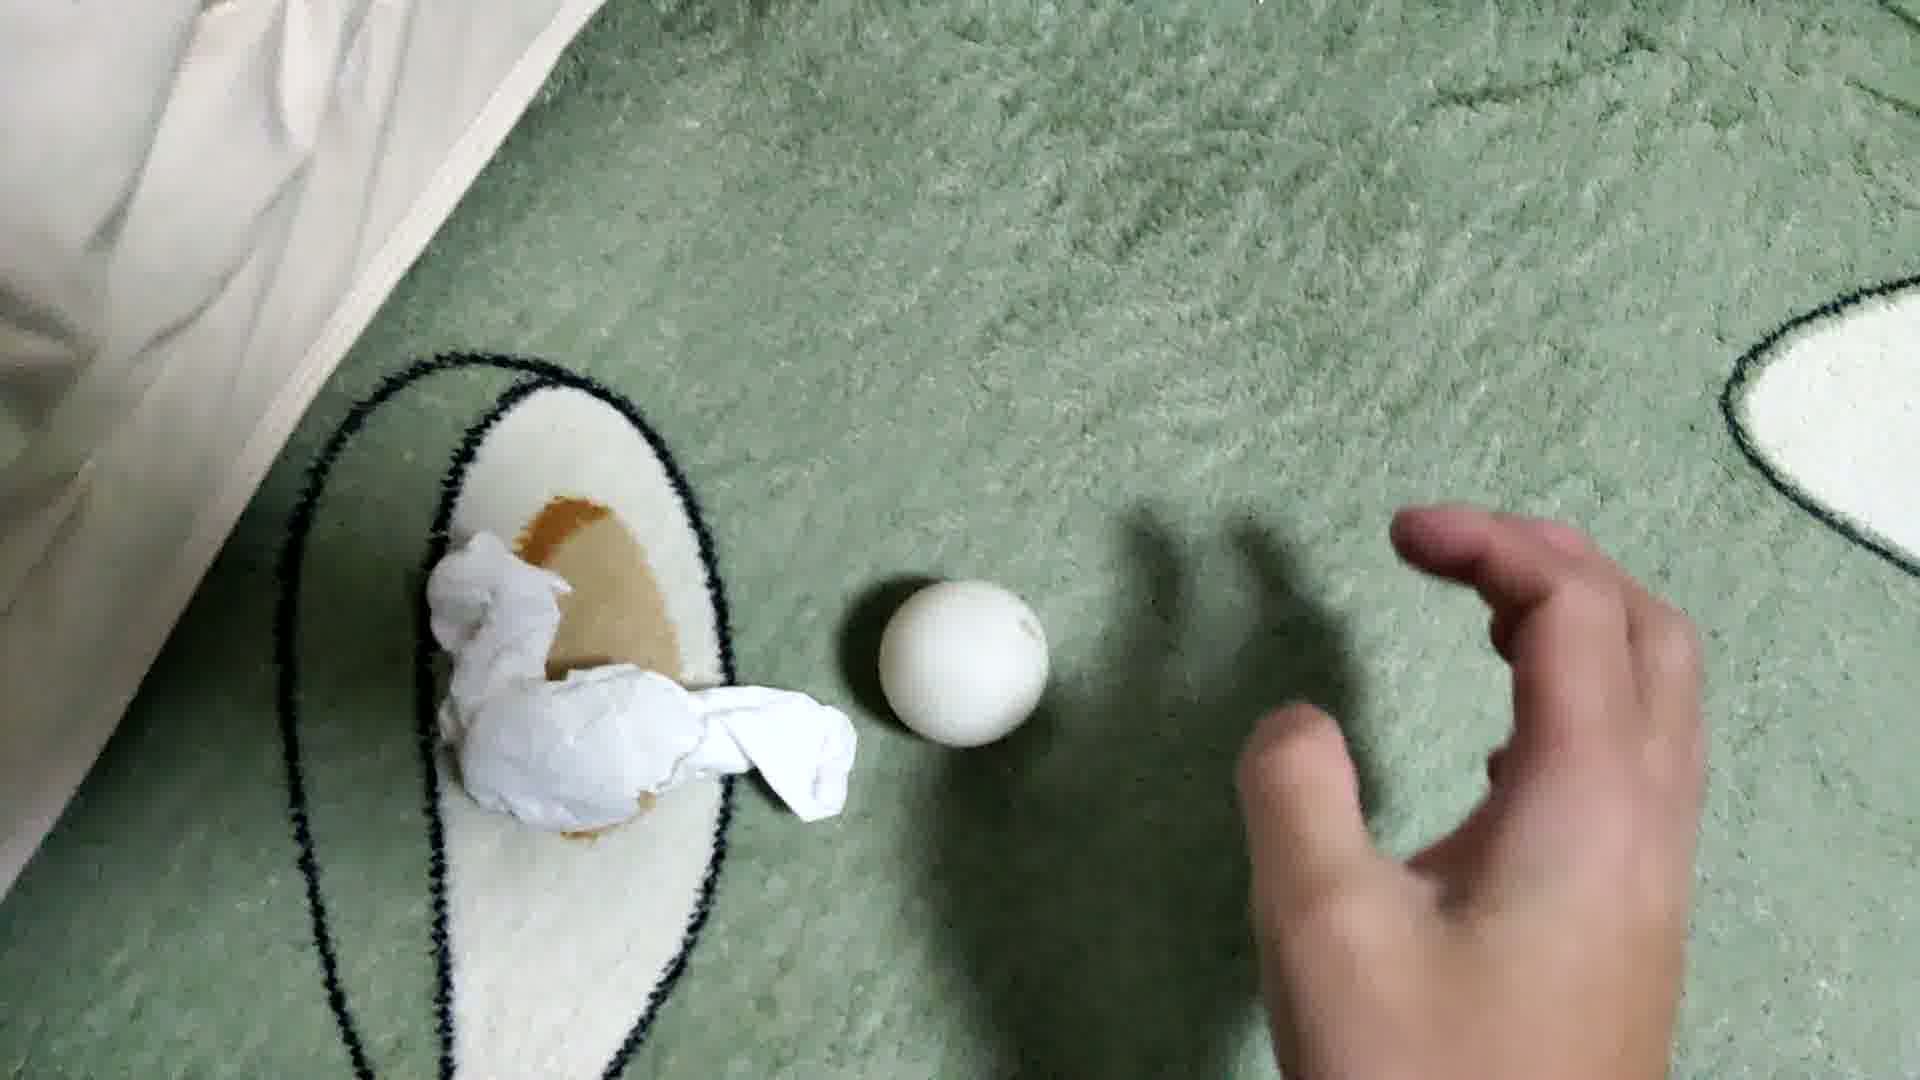Ball: (877, 579, 1048, 748)
